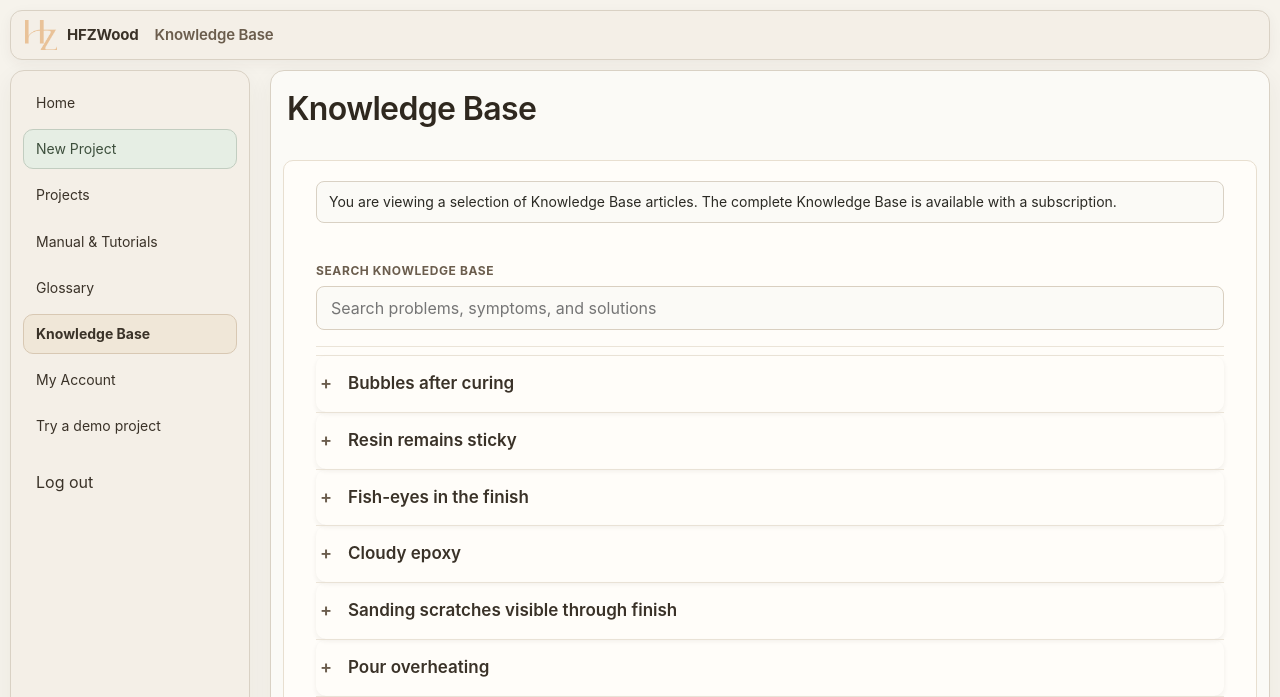
KnowledgeBasePage › filters entries immediately from the search field
Type "sticky" into the search field labelled "Search knowledge base".
click(770, 308); type("sticky")  # box [316,286,1224,330]
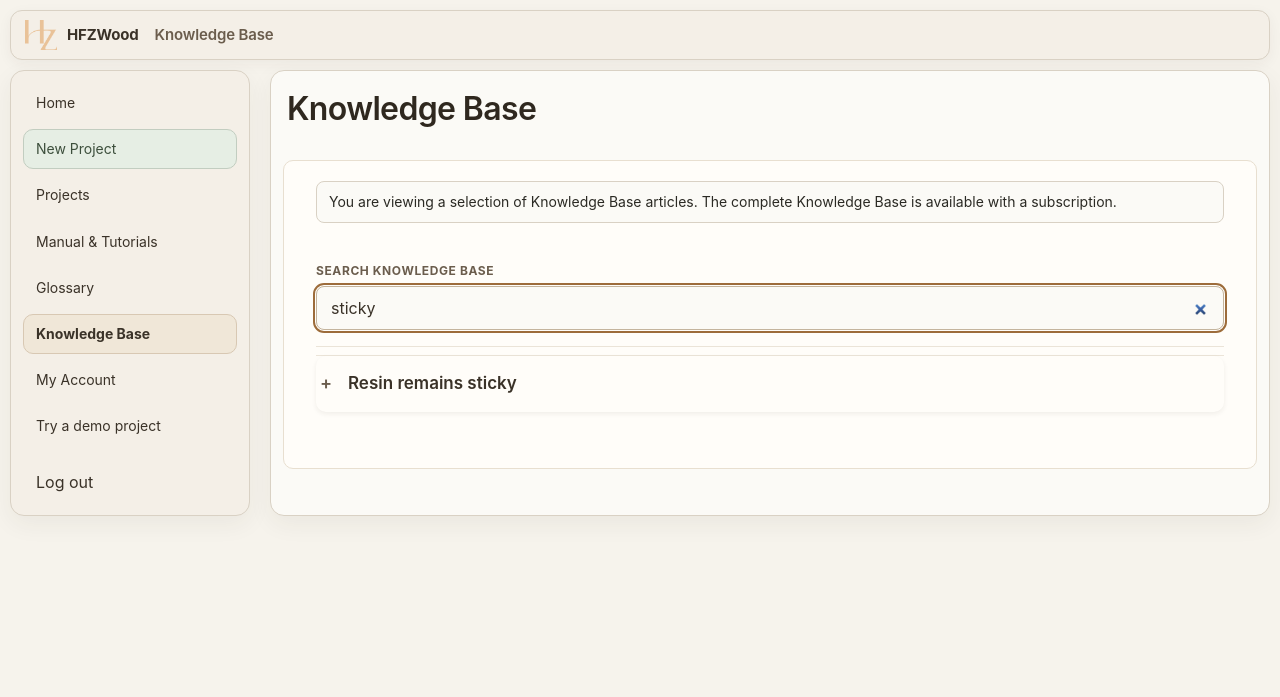
Expected: the button "+ Resin remains sticky" is shown, [316,356,1224,412]
Expected: the button "Bubbles after curing" is gone
